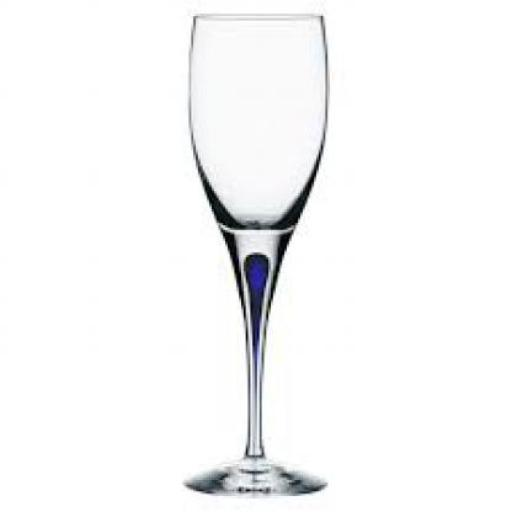glass: (180, 12, 325, 492)
